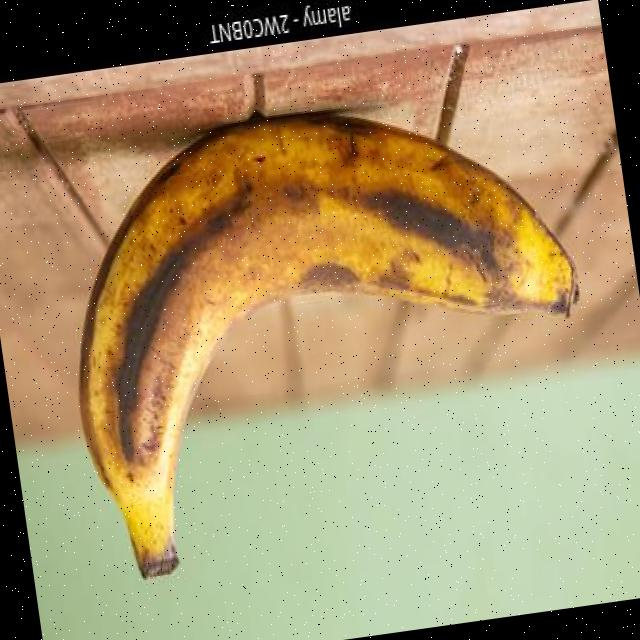overripe: (34, 71, 614, 592)
